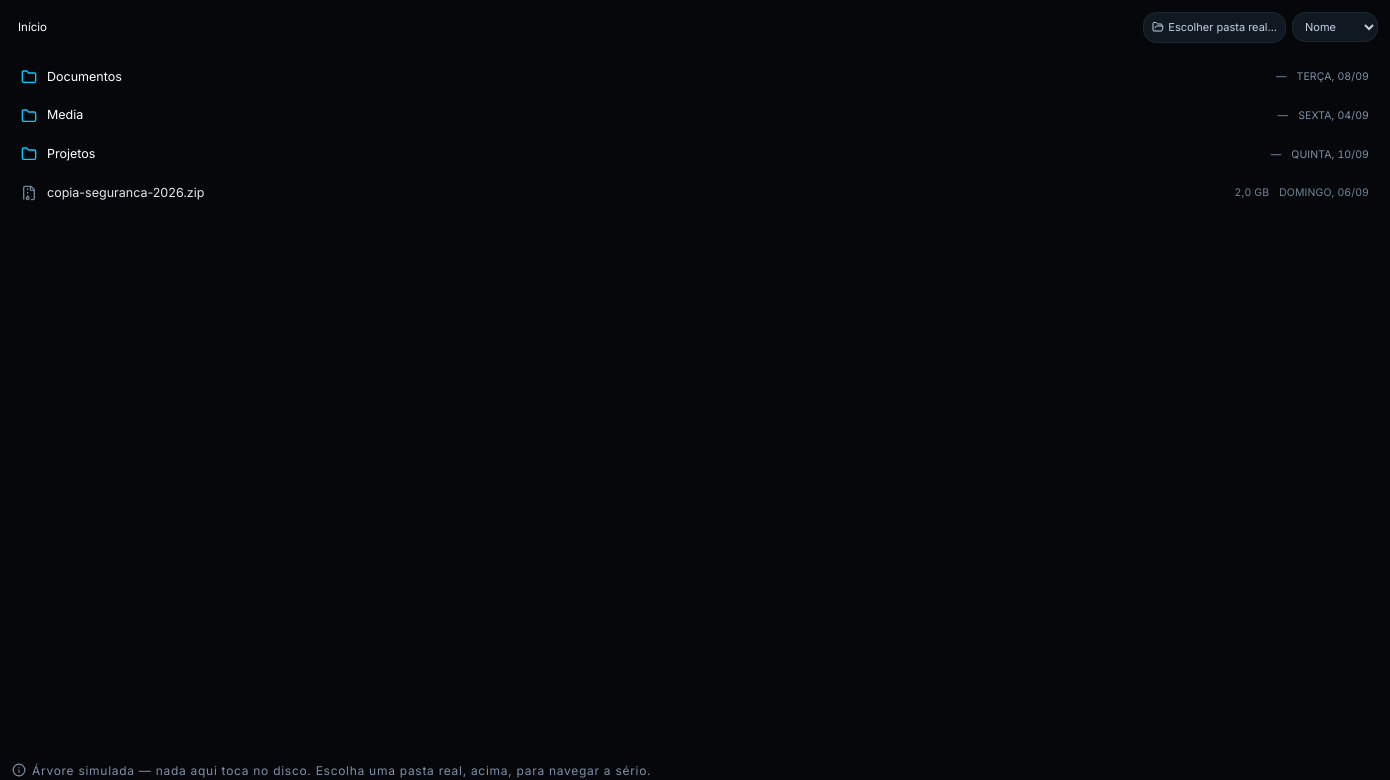
it: FilesWindow — modo real › um erro a ler a pasta mostra-se, mas não rebenta a janela
Click the button "Escolher pasta real…": (1215, 27) [1143,12,1286,42]
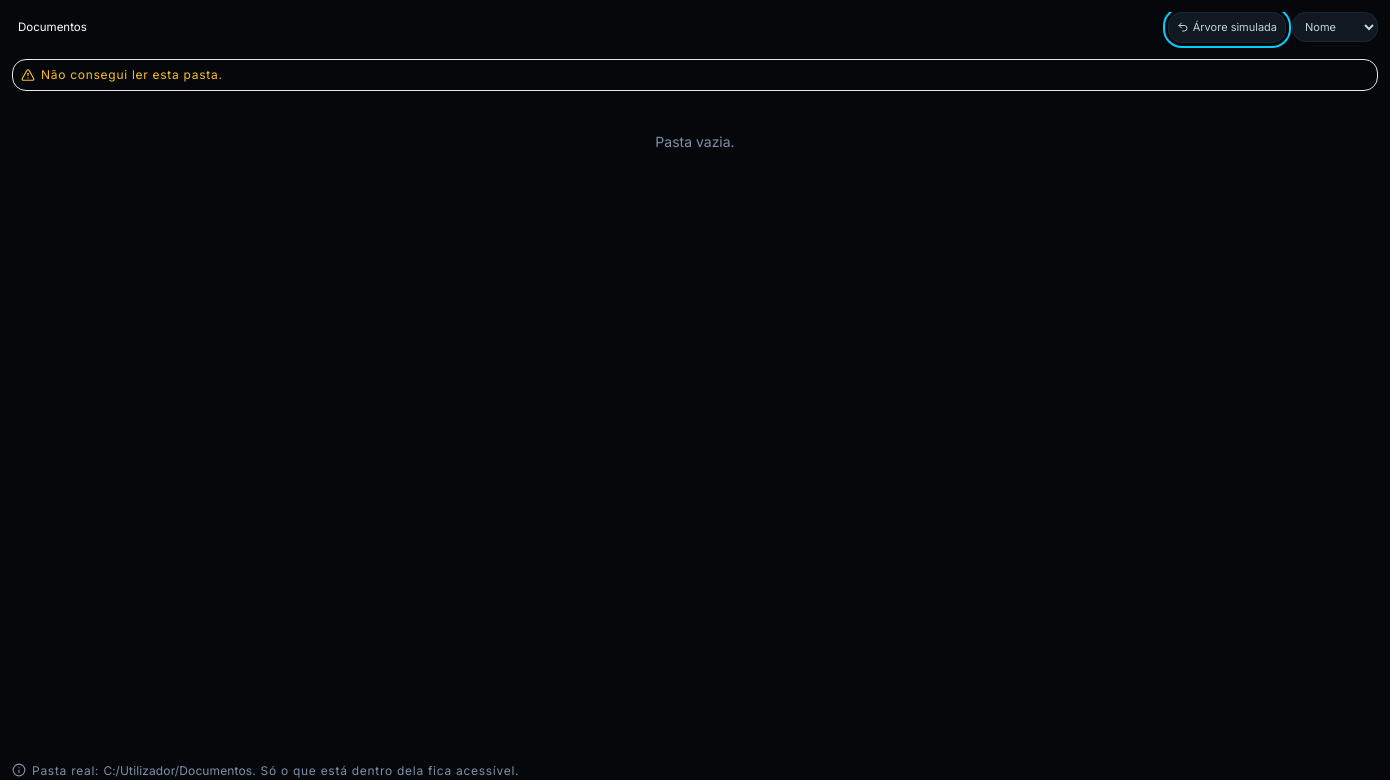
Expected: the text "Não consegui ler esta pasta." is shown, [12,58,1378,90]
